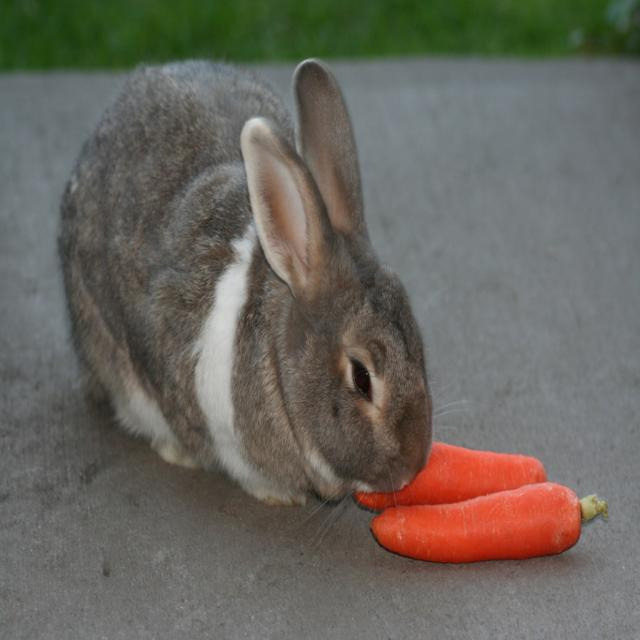Carrot: (370, 483, 596, 568)
